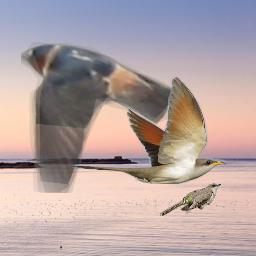Cuckoo: (72, 77, 226, 184), (159, 183, 221, 216)
Swallow: (21, 37, 184, 193)
